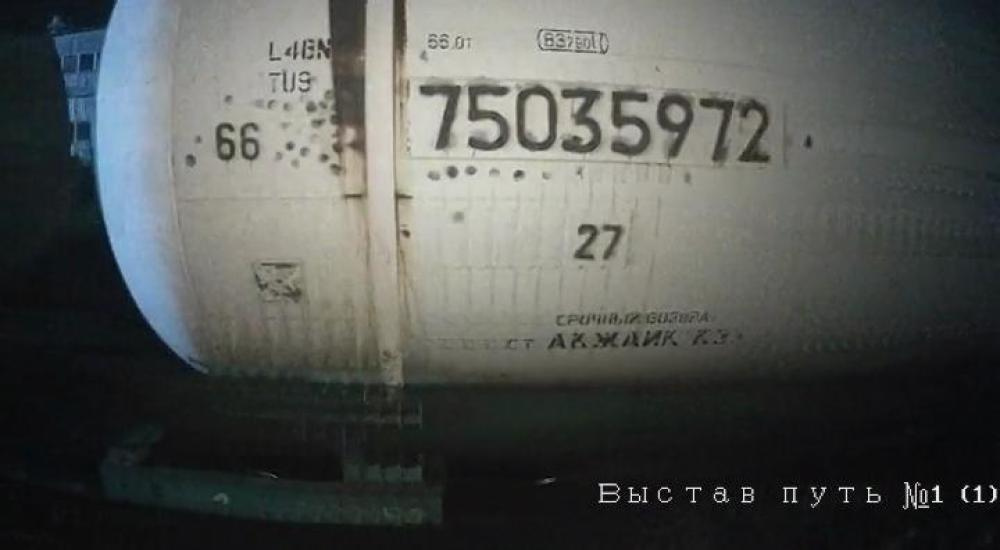Wagon-number: (413, 77, 782, 169)
